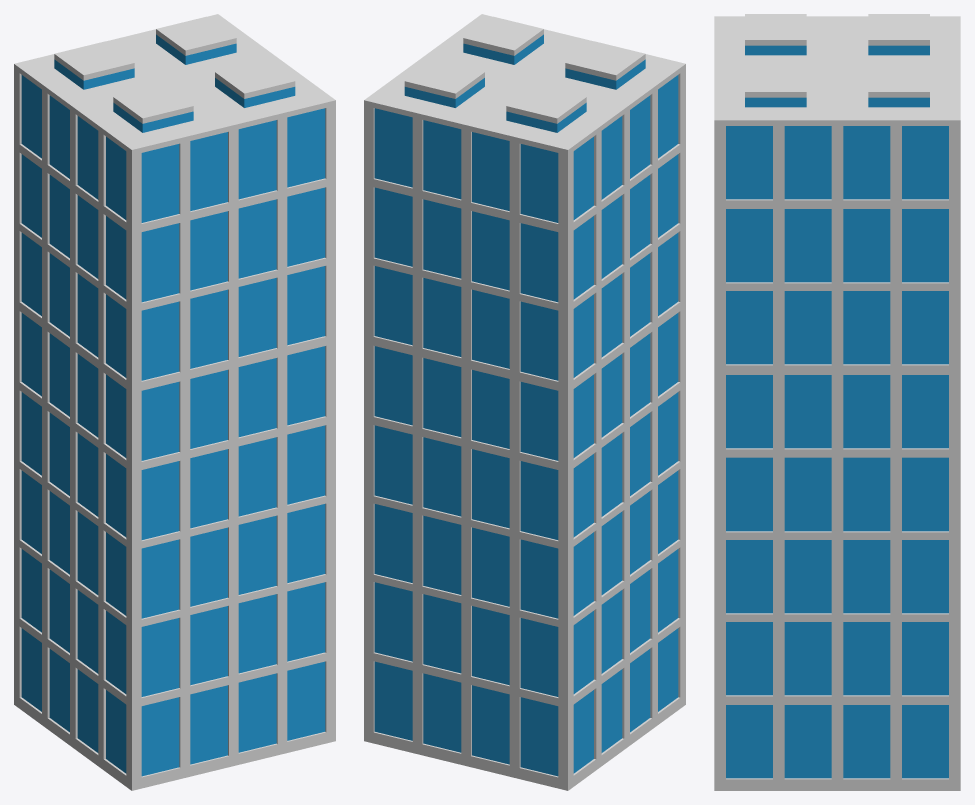
The model's file is blok2.fbx.
3 renders of one model, left to right at view 1: azimuth 30°, elevation 25°; view 2: azimuth 150°, elevation 25°; view 3: azimuth 270°, elevation 25°, orthographic. The views are drawn at different scales.
Parts seen in each view (by area): view 1: Cube; view 2: Cube; view 3: Cube.
Boxes of the visible parts, box(x1,y1,x2,y2) form: Cube: box(14, 14, 335, 790); Cube: box(364, 14, 685, 790); Cube: box(714, 14, 960, 790).
Size of the model in its own units: 600 by 1842 by 600.
